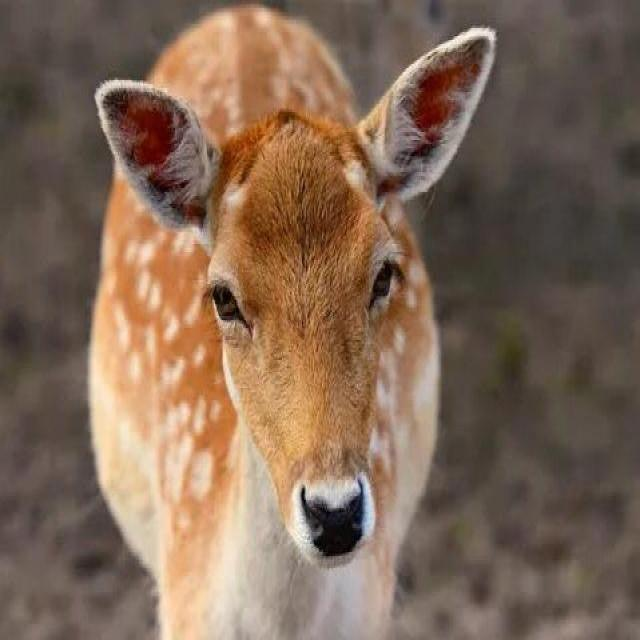deer: (56, 5, 514, 640)
